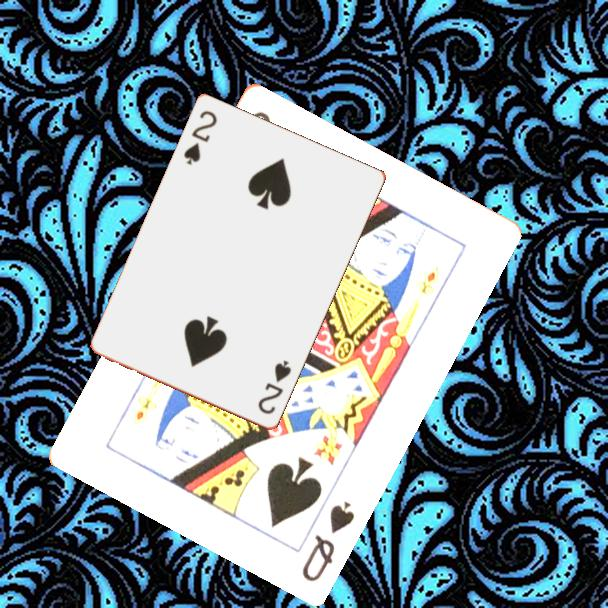s02: (254, 357, 294, 418), (180, 107, 220, 168)
s12: (298, 497, 357, 584)
